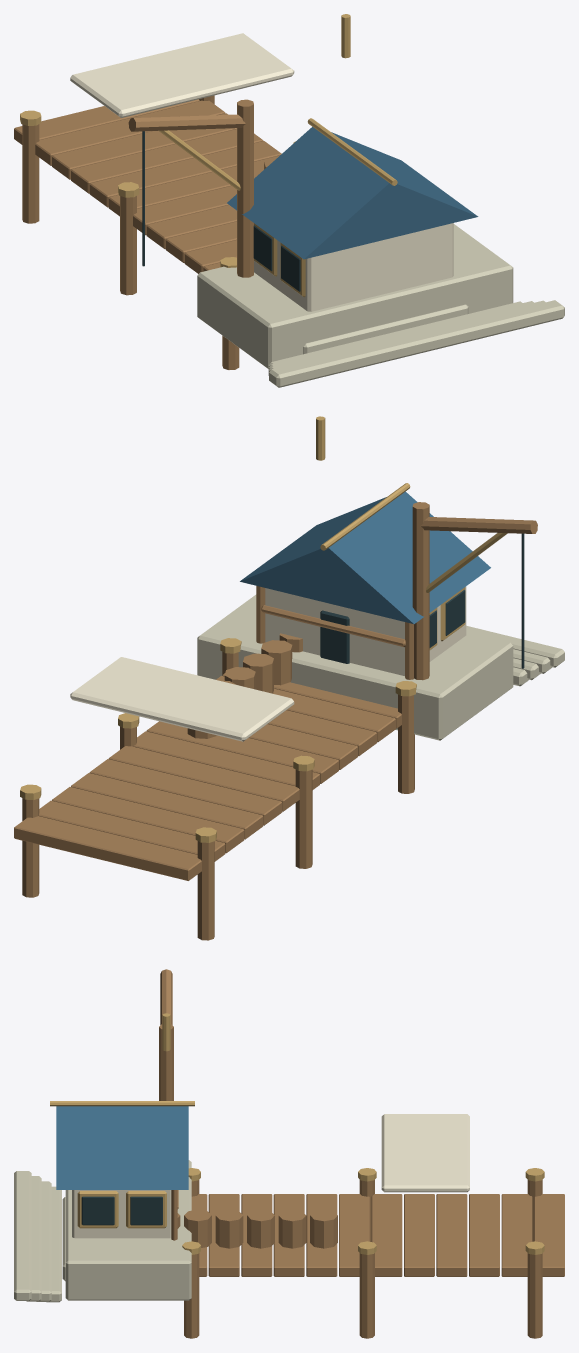
Rendered from level_29.glb.
3 renders of one model, top to bottom at view 1: azimuth 30°, elevation 25°; view 2: azimuth 150°, elevation 25°; view 3: azimuth 270°, elevation 25°, orthographic. The views are drawn at different scales.
Visible parts, largest first — view 1: fishing_wharf — level 29; view 2: fishing_wharf — level 29; view 3: fishing_wharf — level 29.
Part boxes in pixels (x1,y1,x2,y2): fishing_wharf — level 29: (14, 14, 564, 387); fishing_wharf — level 29: (14, 416, 564, 940); fishing_wharf — level 29: (14, 969, 564, 1338).
Bounding box in the file's own units: 5.45 × 5.06 × 8.74.
